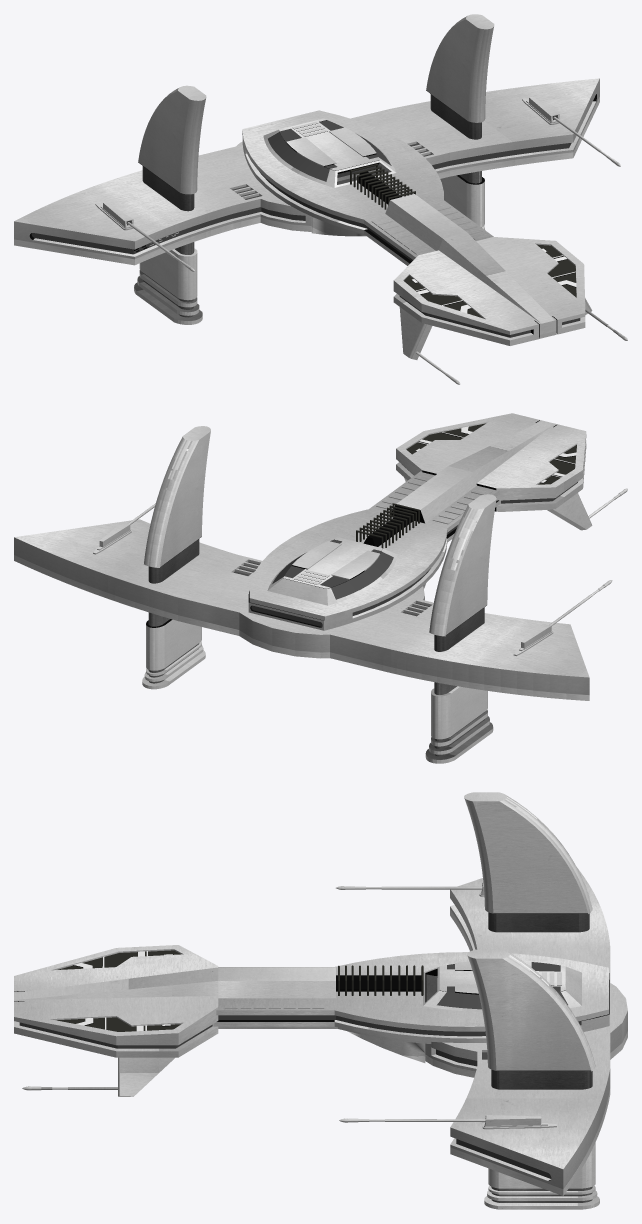
Rendered from Asgard.dae.
3 views of the same model, one above another, from view 1: azimuth 30°, elevation 25°; view 2: azimuth 150°, elevation 25°; view 3: azimuth 270°, elevation 25° (orthographic). The views are drawn at different scales.
Visible parts, largest first — view 1: SketchUp (×23); view 2: SketchUp (×19); view 3: SketchUp (×28).
Part boxes in pixels (x1,y1,x2,y2): SketchUp (×23): (14, 14, 599, 359); SketchUp (×19): (14, 413, 592, 739); SketchUp (×28): (14, 792, 627, 1209).
Size of the model in its own units: 632 by 515 by 236.
8 materials, 4 textured.
